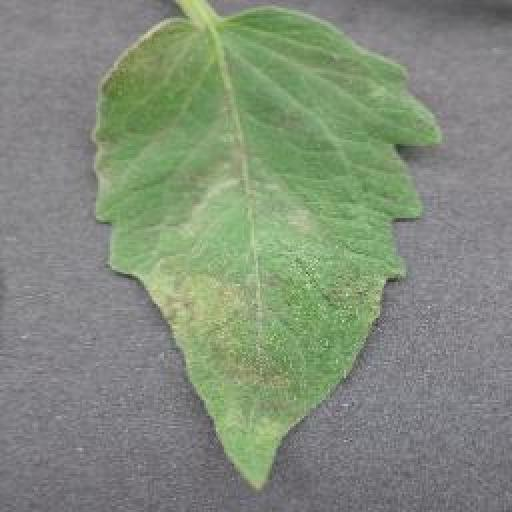Late Blight: (91, 8, 445, 492)
